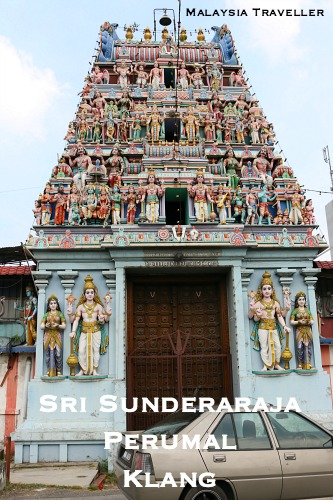Hindu Temple: (48, 16, 312, 454)
